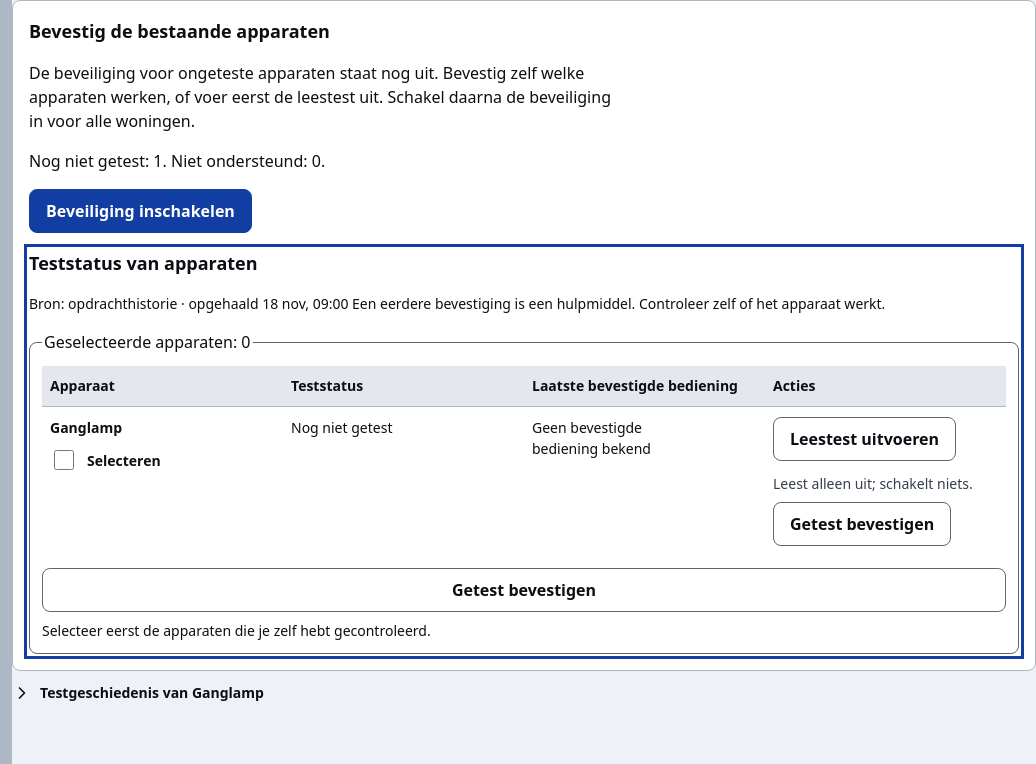
Scenario: schermt beheerdata af na 401, ook bij volgende uitval, tot opnieuw toegang is verleend
The width and height of the screenshot is (1036, 764).
Click the heading "Testgeschiedenis van Ganglamp". click: [152, 692]
box: [40,683,264,702]
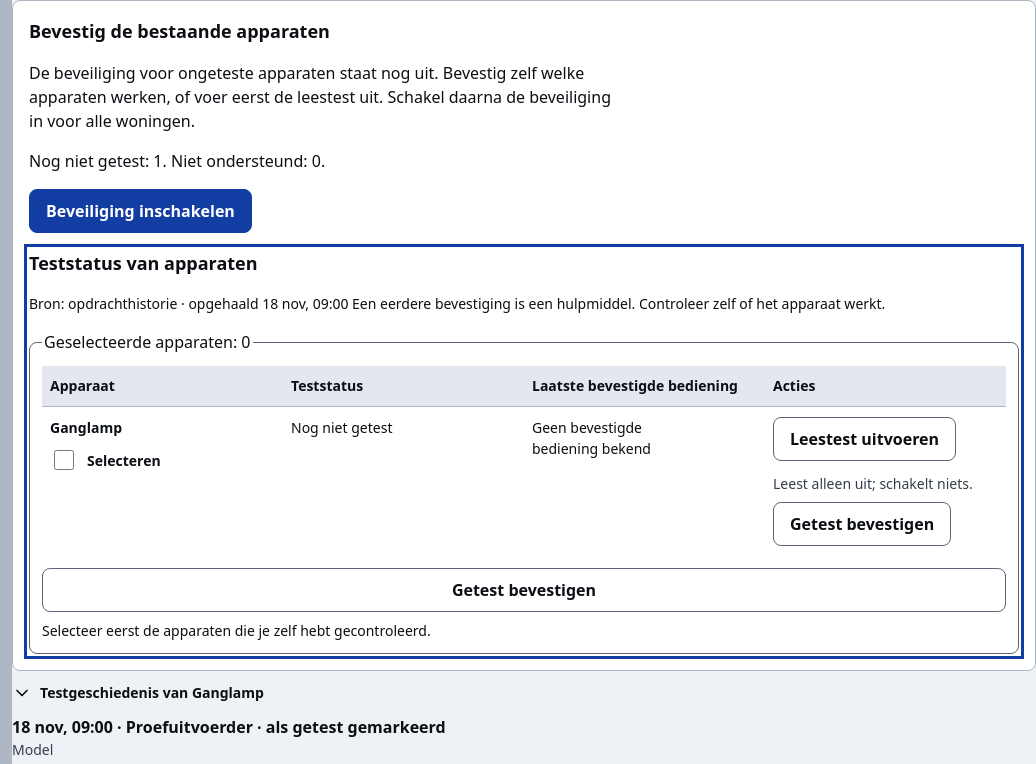
Check: the checkbox named "Selecteer Ganglamp" is shown, box [54,450,74,470]
Check: the text "18 nov, 09:00 · Proefuitvoerder · als getest gemarkeerd" is shown, box [12,716,446,738]
